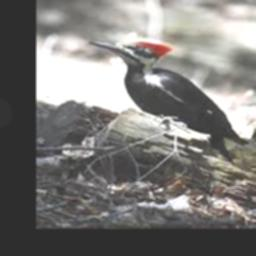Woodpecker: (89, 39, 248, 158)
